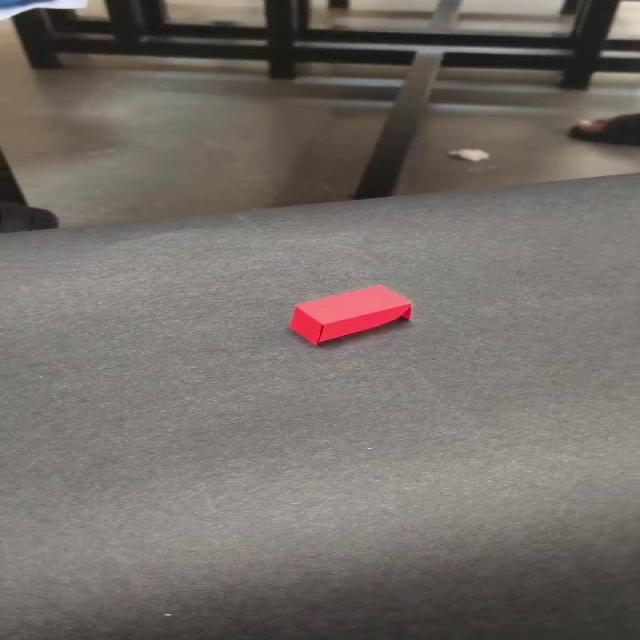red block: (287, 283, 413, 346)
